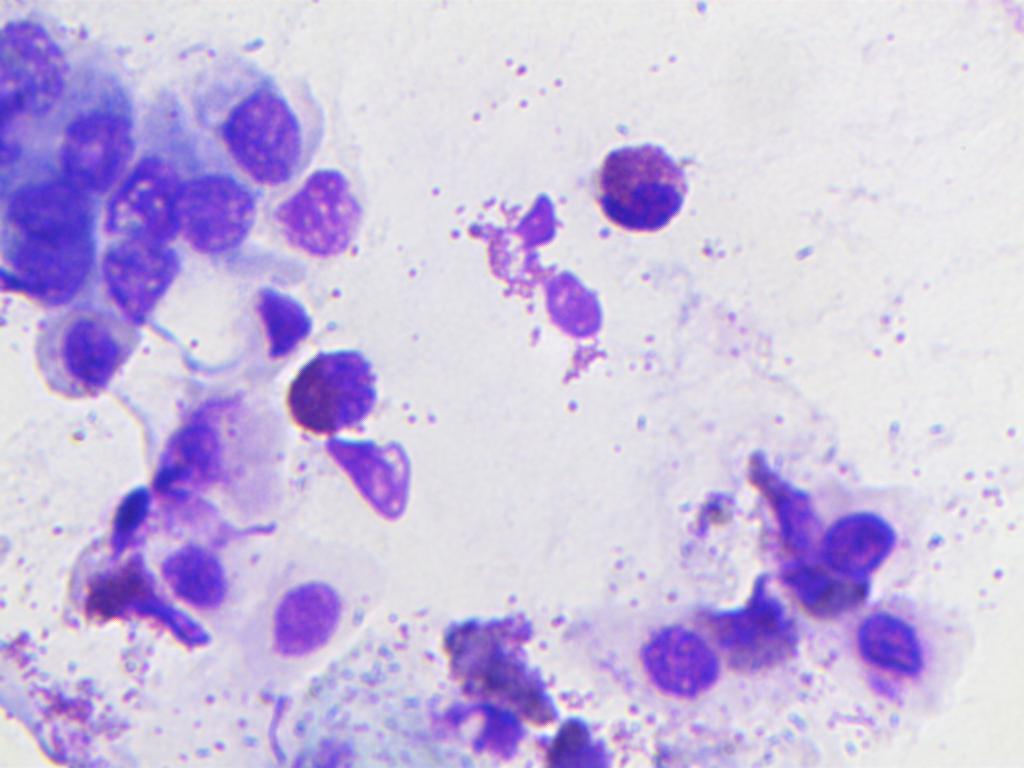eosinophil: (425, 610, 560, 758), (57, 524, 206, 656), (561, 118, 711, 244), (275, 345, 388, 438), (515, 255, 623, 348)
epithelial: (40, 71, 137, 193), (6, 171, 100, 296), (257, 563, 360, 667), (213, 85, 318, 182), (265, 162, 370, 259), (222, 267, 327, 364), (615, 619, 718, 708), (173, 169, 260, 259)
neutrophil: (837, 599, 943, 695), (28, 303, 136, 396), (804, 502, 920, 583)
